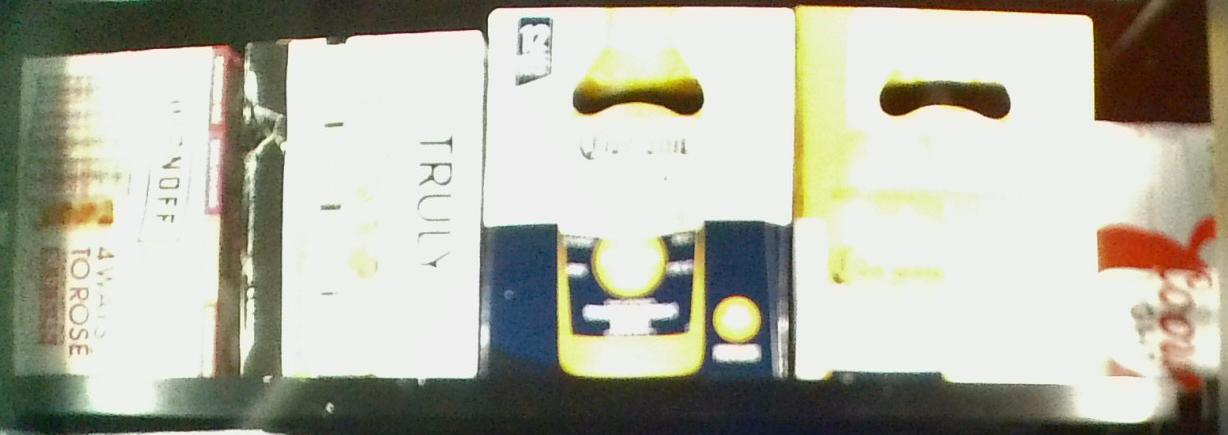bottle: (489, 8, 796, 380), (799, 7, 1093, 393), (238, 34, 481, 380), (17, 46, 235, 379), (1097, 122, 1226, 381)
